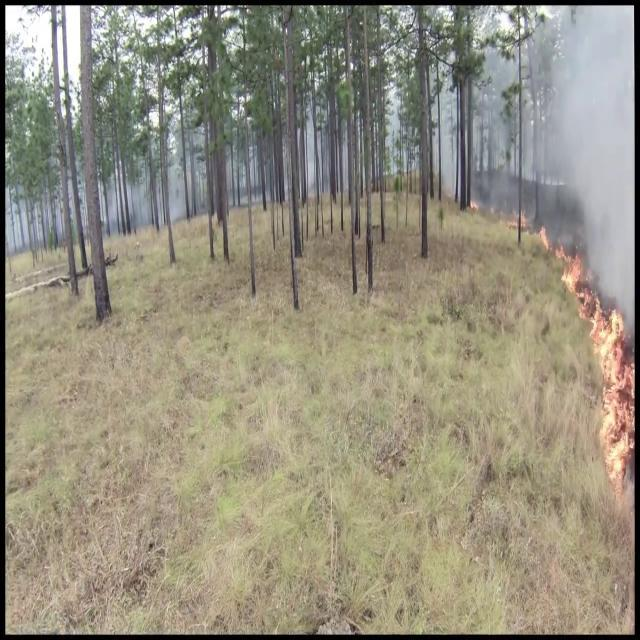Fire: (581, 284, 635, 490), (532, 220, 593, 318)
Smoke: (502, 3, 634, 314)
